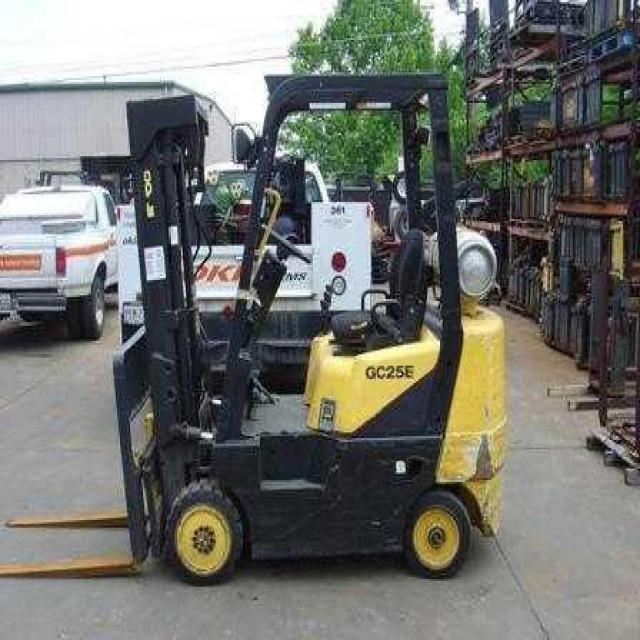forklift: (0, 73, 506, 578)
